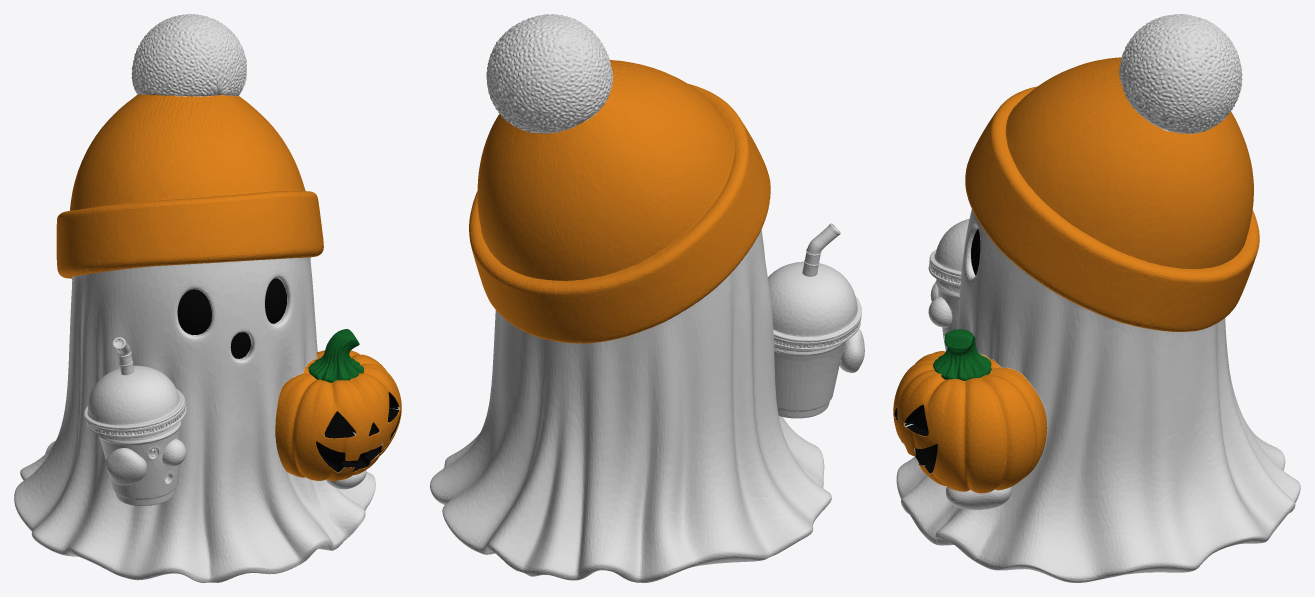
File: halloween-cute-ghost.glb
3 renders of one model, left to right at view 1: azimuth 30°, elevation 25°; view 2: azimuth 150°, elevation 25°; view 3: azimuth 270°, elevation 25°, orthographic. The views are drawn at different scales.
Visible parts, largest first — view 1: ghost_, ghost_8, ghost_4, ghost_0C, ghost_1C, ghost_OTHER; view 2: ghost_, ghost_8, ghost_4, ghost_OTHER; view 3: ghost_, ghost_8, ghost_4, ghost_1C, ghost_0C.
Boxes of the visible parts, x1,y1,x2,y2 form: ghost_: (14,252,375,582); ghost_8: (56,94,401,480); ghost_4: (94,14,246,505); ghost_0C: (177,278,400,472); ghost_1C: (308,329,363,382); ghost_OTHER: (96,94,399,505); ghost_: (430,223,864,582); ghost_8: (469,60,770,343); ghost_4: (486,14,864,427); ghost_OTHER: (585,108,864,432); ghost_: (896,196,1300,582); ghost_8: (893,57,1259,493); ghost_4: (928,14,1242,351); ghost_1C: (933,329,991,380); ghost_0C: (894,229,980,473).
Bounding box in the file's own units: 17.06 × 23.61 × 17.35.
